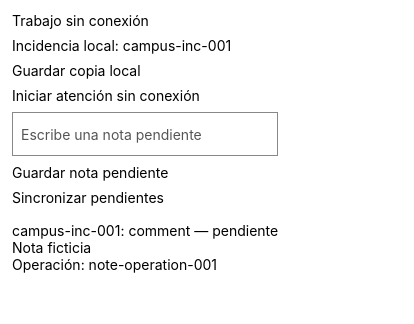
Test case: failed local save never reports success or discards the entered note
Expected: the text "Nota ficticia" is shown, [12,239,91,256]
In the field labelled "nota pendiente": (145, 134) [12,112,278,156], type "Conservar texto"
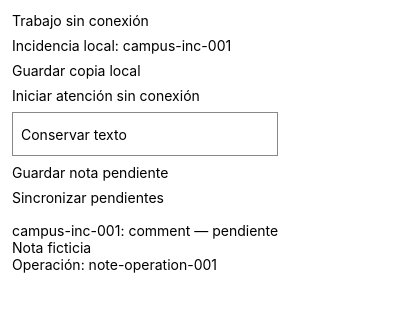
Click the button "Guardar nota pendiente": (145, 172) [12,164,278,181]
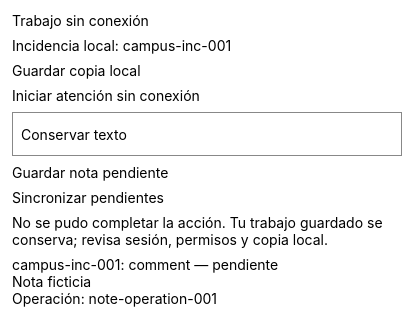
Now the text "No se pudo completar" is shown, box [12,214,386,248]
